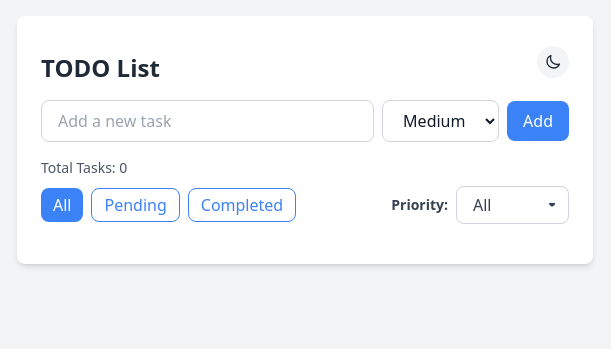
Test: TodoList › adds a new task
This screenshot has width=611, height=349.
Type "New test task" into the field with placeholder "Add a new task" at (208, 121), box x1=41 y1=100 x2=374 y2=142
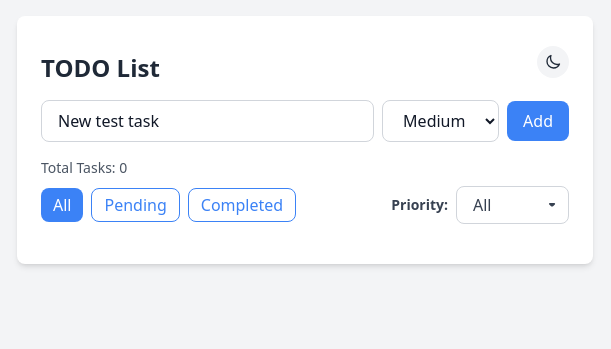
Submit the form, box x1=41 y1=100 x2=569 y2=142
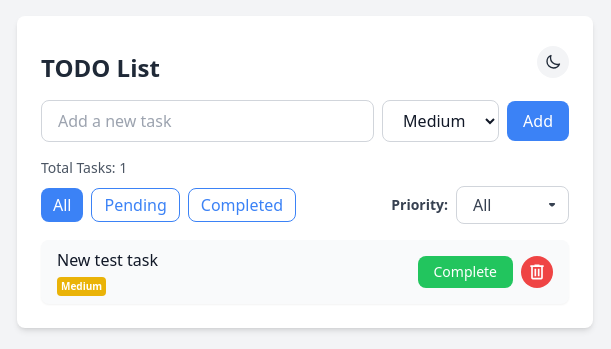
Result: the text "New test task" is shown at x1=57 y1=248 x2=158 y2=272
